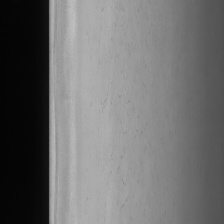silk_spot: (95, 21, 154, 203)
